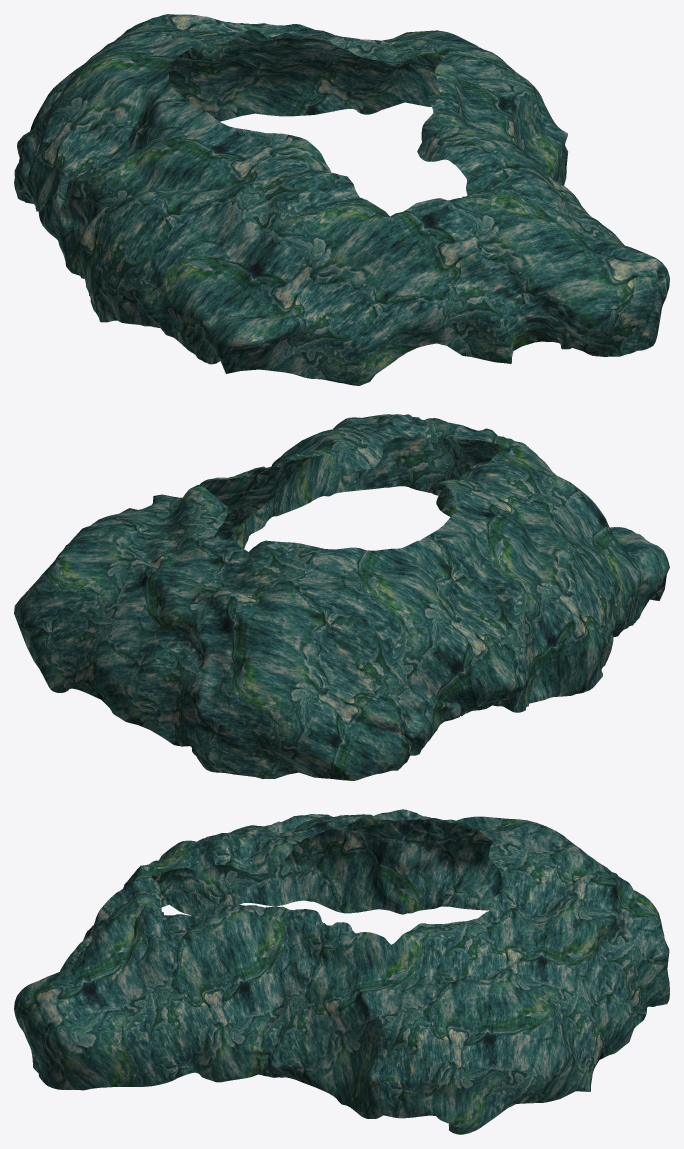
Rendered from terrain.glb.
The picture shows the model from 3 angles, top to bottom: view 1: azimuth 30°, elevation 25°; view 2: azimuth 150°, elevation 25°; view 3: azimuth 270°, elevation 25°; orthographic projection. The views are drawn at different scales.
Parts seen in each view (by area): view 1: MoreEnvironment.001; view 2: MoreEnvironment.001; view 3: MoreEnvironment.001.
Boxes of the visible parts, bbox=[...] form: MoreEnvironment.001: bbox=[14, 14, 669, 385]; MoreEnvironment.001: bbox=[14, 414, 669, 780]; MoreEnvironment.001: bbox=[14, 809, 669, 1134].
Bounding box in the file's own units: 37.8 × 12.19 × 46.4.
Materials: 1 (1 with a texture image).
